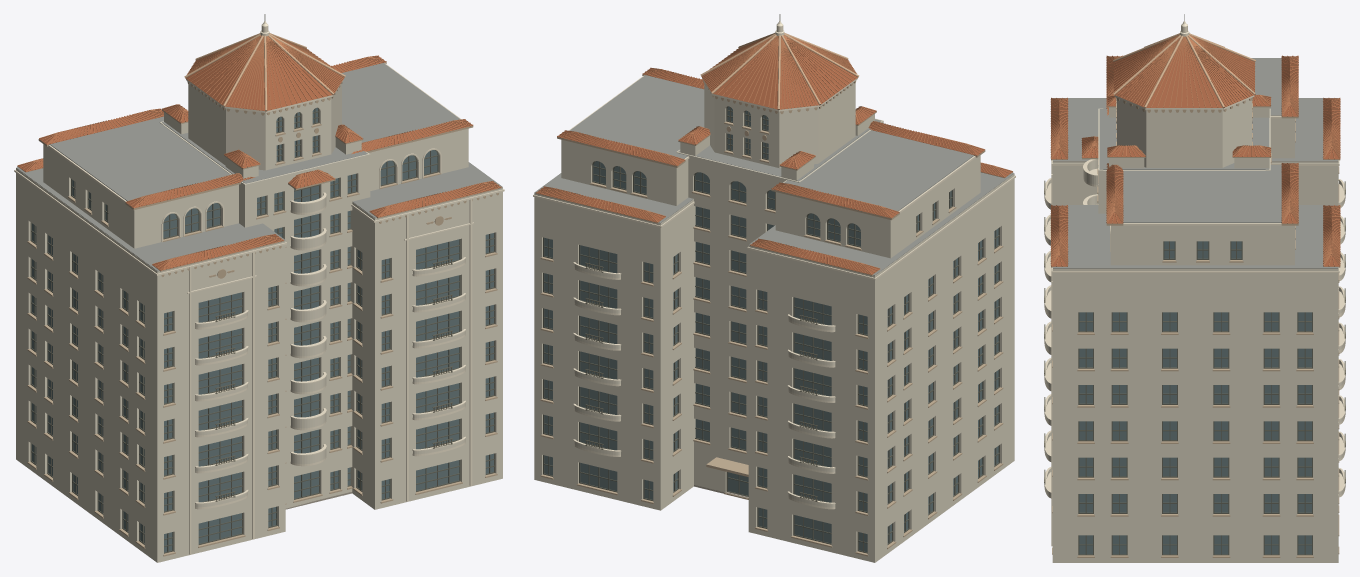
File: jingan-huaye-apartments-web.glb
The picture shows the model from 3 angles, left to right: view 1: azimuth 30°, elevation 25°; view 2: azimuth 150°, elevation 25°; view 3: azimuth 270°, elevation 25°; orthographic projection. The views are drawn at different scales.
Visible parts, largest first — view 1: 华业公寓主楼（H形住宅与中央红瓦塔）; view 2: 华业公寓主楼（H形住宅与中央红瓦塔）; view 3: 华业公寓主楼（H形住宅与中央红瓦塔）.
Part boxes in pixels (box(x1,y1,x2,y2)): 华业公寓主楼（H形住宅与中央红瓦塔）: box(14, 14, 504, 562); 华业公寓主楼（H形住宅与中央红瓦塔）: box(533, 14, 1015, 562); 华业公寓主楼（H形住宅与中央红瓦塔）: box(1044, 14, 1345, 562).
Size of the model in its own units: 33.88 by 42.76 by 25.24.
